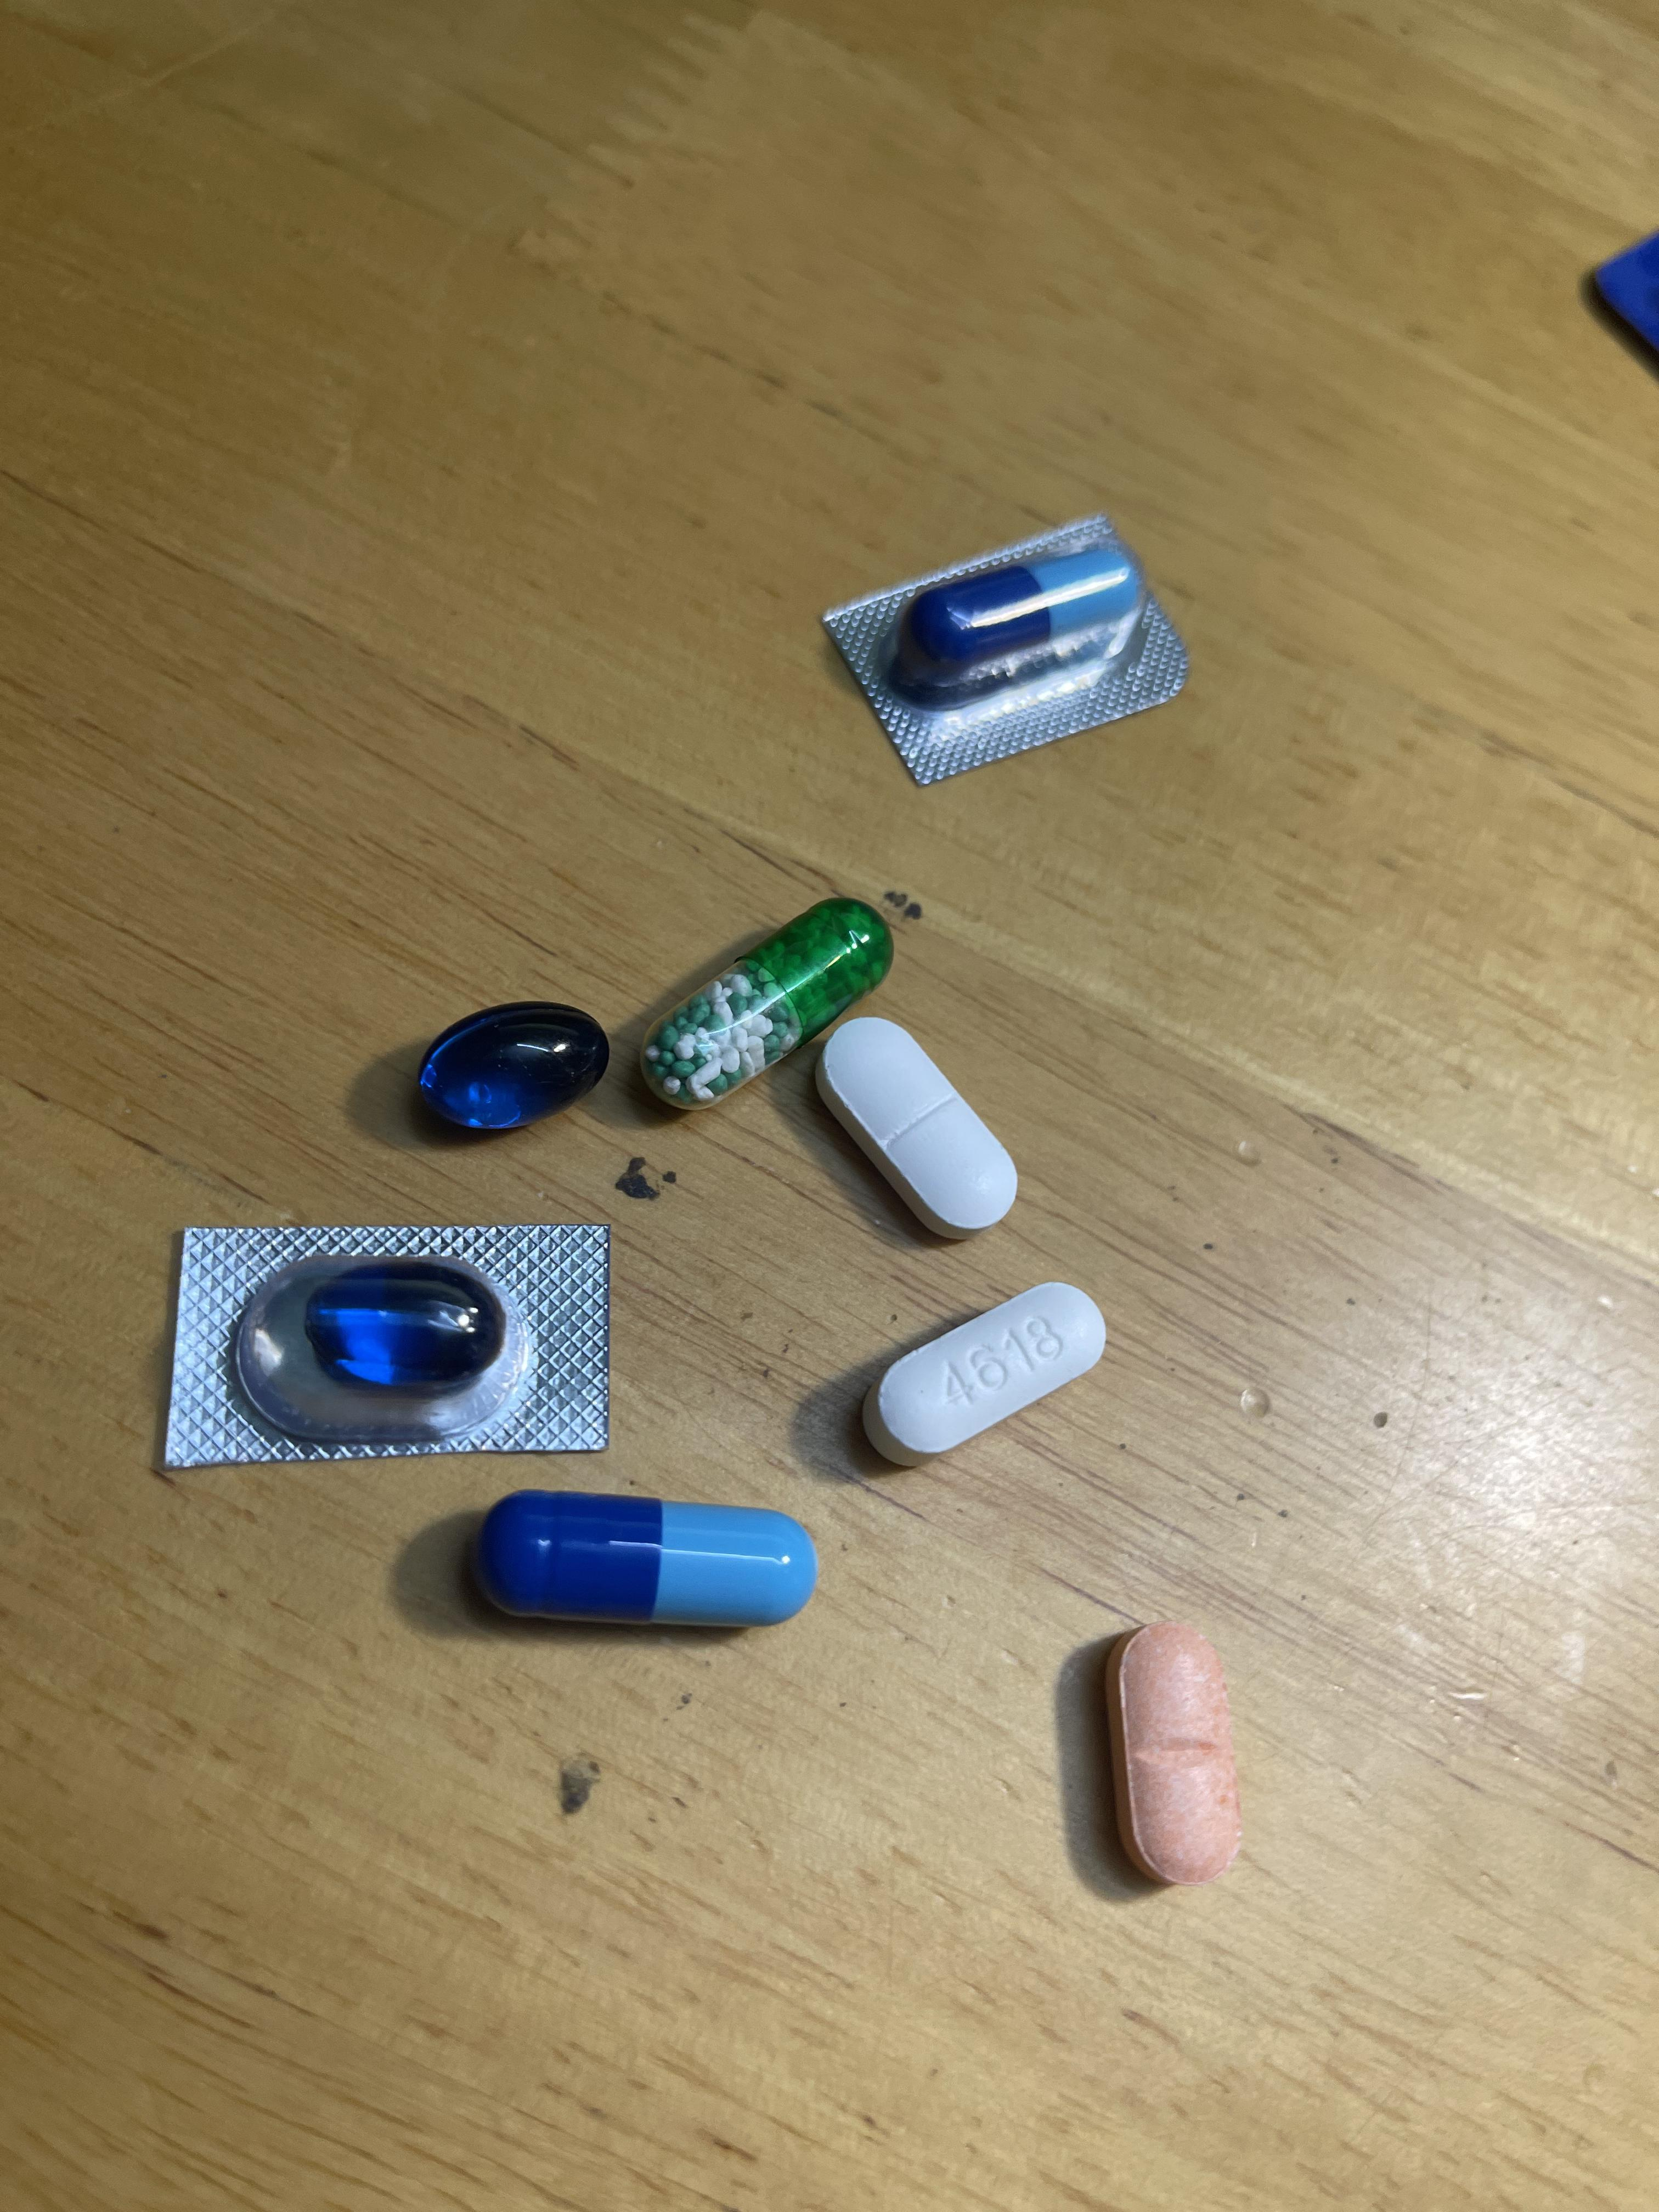Lincomyxin_500mg: (425, 1003, 613, 1130), (308, 1271, 498, 1390)
Loratadine_10mg: (1105, 1620, 1243, 1895)
Paracetamol_350mg: (816, 1017, 1018, 1230)
Paracetamol_500mg: (877, 1280, 1096, 1458)
Paracetamol_650mg: (647, 899, 887, 1103)
pill: (483, 1500, 812, 1625), (908, 549, 1140, 693)
